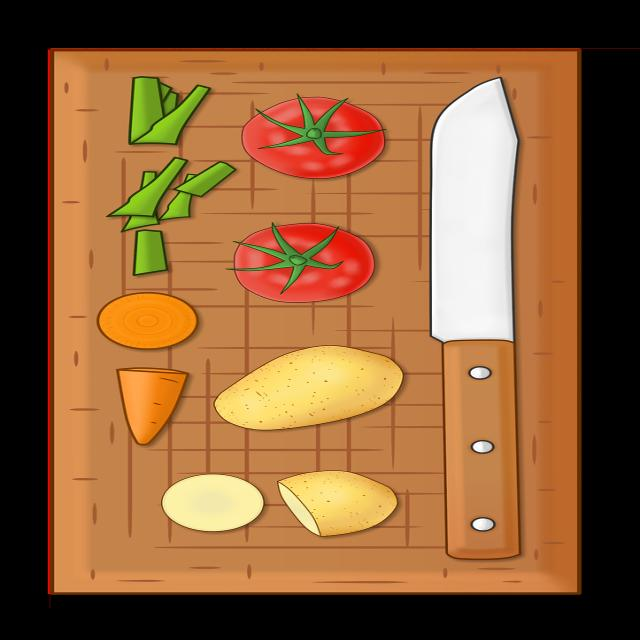Knife: (430, 78, 519, 559)
